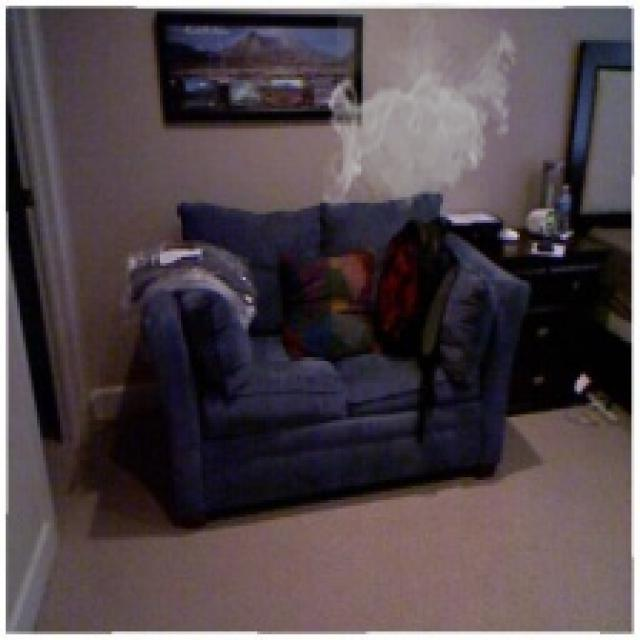smoke: (323, 3, 523, 214)
